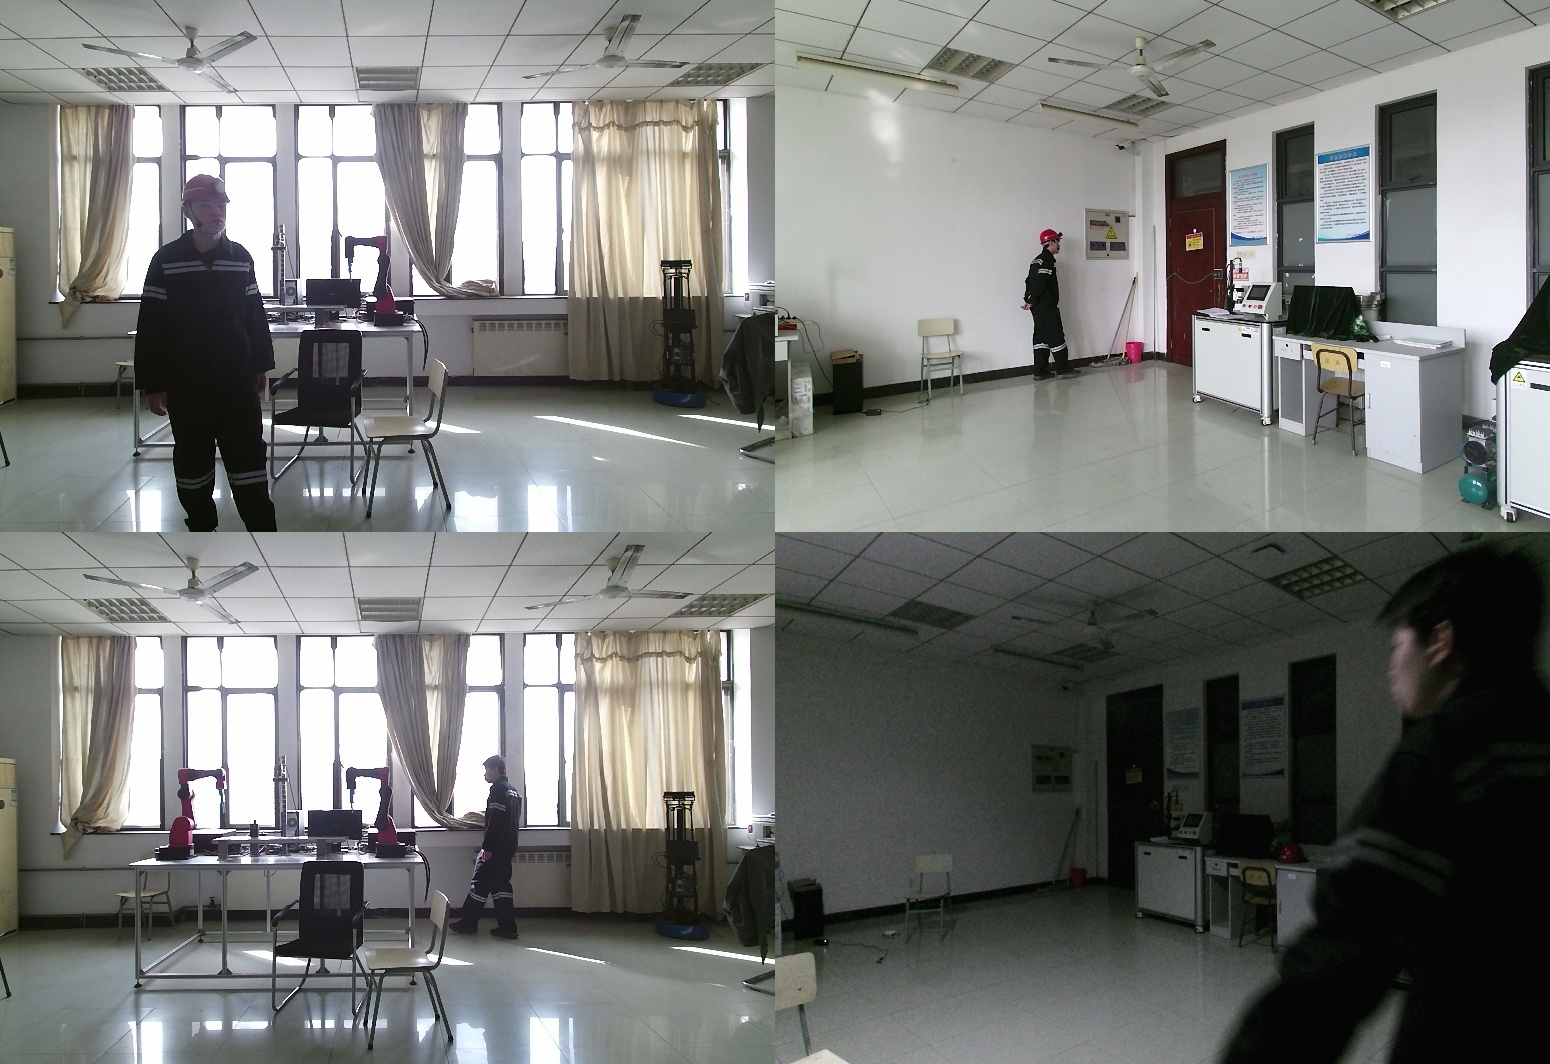person: (1311, 545, 1550, 1064), (139, 176, 293, 532), (455, 758, 525, 943), (1021, 229, 1064, 385)
